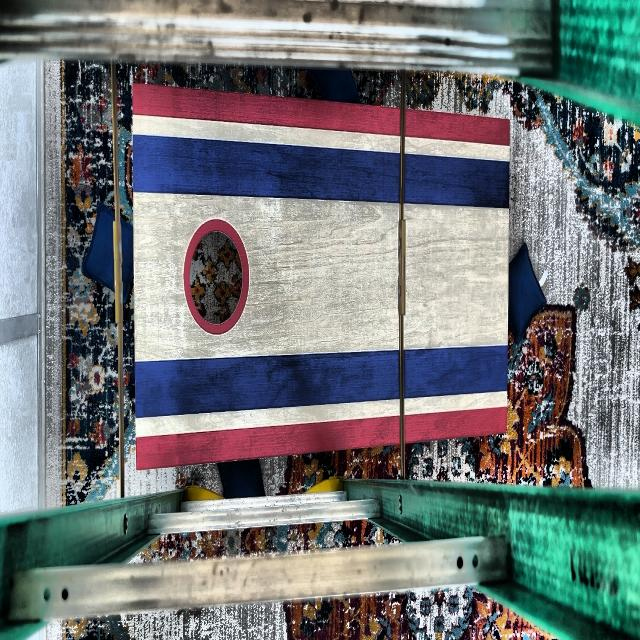blue-bean-bag: (81, 199, 133, 302), (508, 238, 548, 345), (217, 459, 266, 497), (310, 69, 360, 103)
board: (136, 120, 506, 432)
hole: (184, 218, 249, 334)
